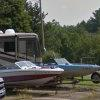Boat: (1, 52, 97, 90)
